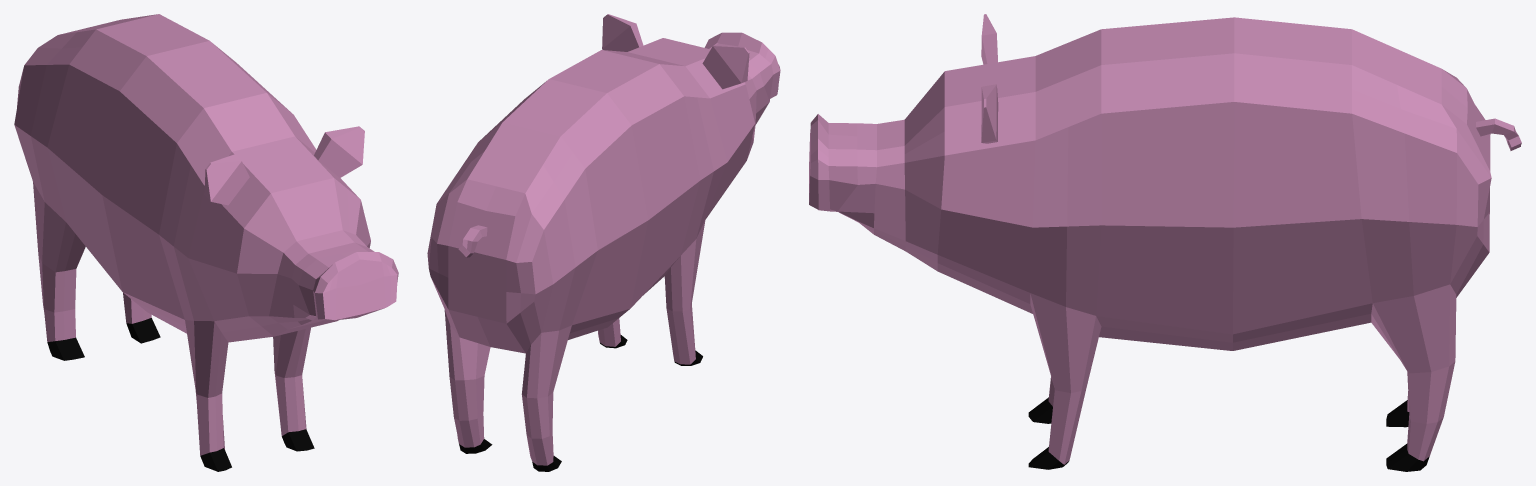
File: Pig (1).glb
The picture shows the model from 3 angles, left to right: view 1: azimuth 30°, elevation 25°; view 2: azimuth 150°, elevation 25°; view 3: azimuth 270°, elevation 25°; orthographic projection. The views are drawn at different scales.
Visible parts, largest first — view 1: Plano; view 2: Plano; view 3: Plano.
Boxes of the visible parts, left/top/right/bottom form: Plano: left=14, top=14, right=398, bottom=471; Plano: left=427, top=14, right=780, bottom=471; Plano: left=809, top=14, right=1521, bottom=471.
Bounding box in the file's own units: 1.04 × 2.2 × 3.49.
